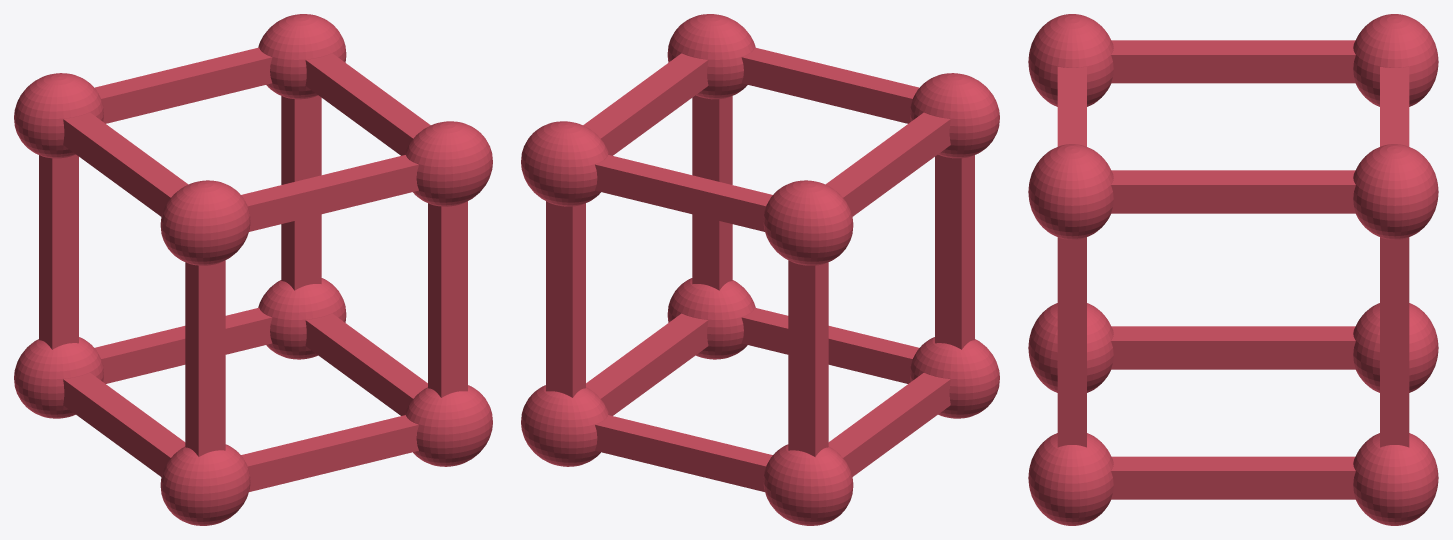
Rendered from cubo-vertice.glb.
The picture shows the model from 3 angles, left to right: view 1: azimuth 30°, elevation 25°; view 2: azimuth 150°, elevation 25°; view 3: azimuth 270°, elevation 25°; orthographic projection. The views are drawn at different scales.
Parts seen in each view (by area): view 1: Mesh_Mesh_head_geo.001_lambert2SG.001; view 2: Mesh_Mesh_head_geo.001_lambert2SG.001; view 3: Mesh_Mesh_head_geo.001_lambert2SG.001.
Part boxes in pixels (box(x1,y1,x2,y2)): Mesh_Mesh_head_geo.001_lambert2SG.001: box(14, 14, 492, 525); Mesh_Mesh_head_geo.001_lambert2SG.001: box(521, 14, 999, 525); Mesh_Mesh_head_geo.001_lambert2SG.001: box(1028, 14, 1438, 525).
Bounding box in the file's own units: 10 × 10 × 10.
